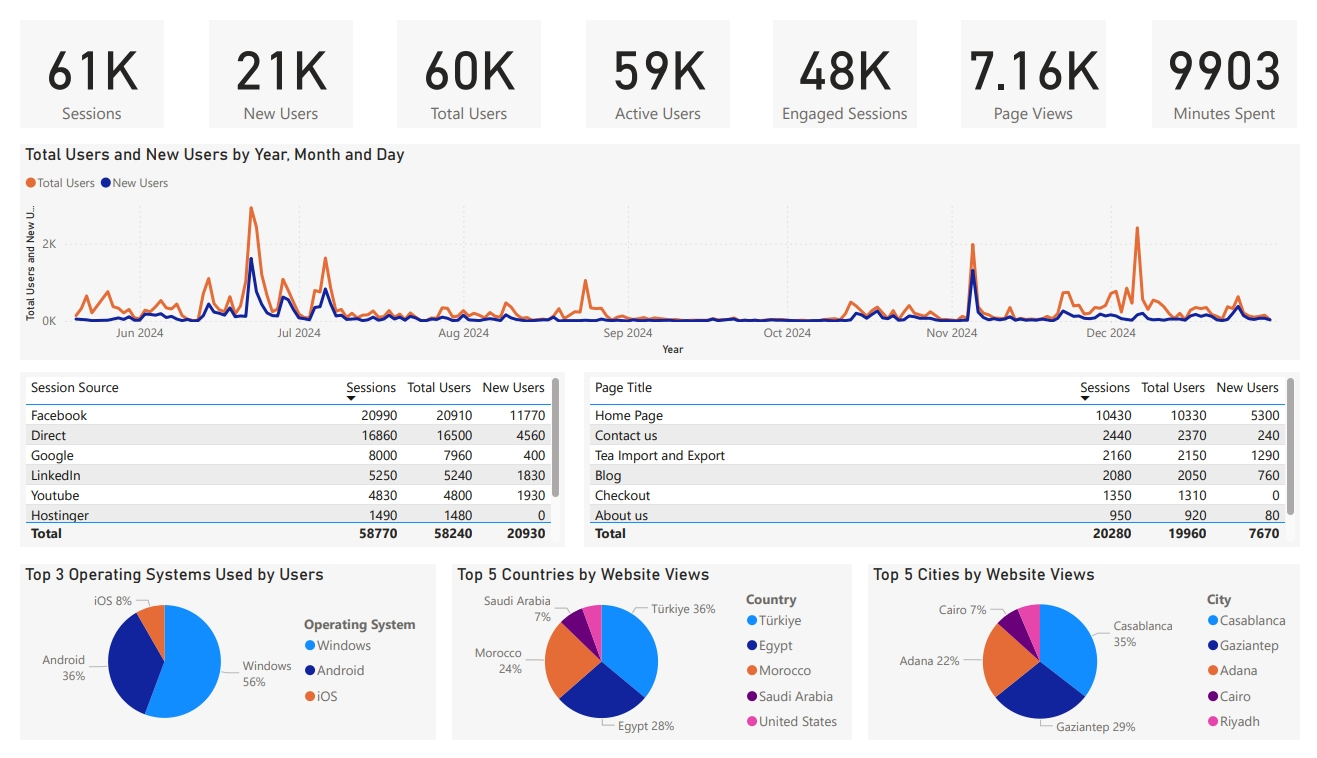

What the dashboard file says about the page in this screenshot:
{"tool":"powerbi","page":{"name":"Page 1","canvas":[1280,720],"ordinal":0},"visuals":[{"type":"tableEx","fields":{"Values":["Analyzeforce_Visitors(Data).Session Source","Sum(Analyzeforce_Visitors(Data).Sessions)","Sum(Analyzeforce_Visitors(Data).Total Users)","Sum(Analyzeforce_Visitors(Data).New Users)"]},"box":[0,352,545,175.3],"z":0},{"type":"tableEx","fields":{"Values":["Analyzeforce_Visitors(Data).Page Title","Sum(Analyzeforce_Visitors(Data).Sessions)","Sum(Analyzeforce_Visitors(Data).Total Users)","Sum(Analyzeforce_Visitors(Data).New Users)"]},"box":[564.1,352,715.9,175.3],"z":1000},{"type":"pieChart","title":"Top 5 Cities by Website Views","fields":{"Category":["Analyzeforce_Visitors(Data).City"],"Y":["Sum(Analyzeforce_Visitors(Data).Views)"]},"box":[848,544,432,176],"z":2000},{"type":"pieChart","title":"Top 3 Operating Systems Used by Users","fields":{"Y":["CountNonNull(Analyzeforce_Visitors(Data).Operating System)"],"Category":["Analyzeforce_Visitors(Data).Operating System"]},"box":[0,544,416,176],"z":3000},{"type":"pieChart","title":"Top 5 Countries by Website Views","fields":{"Category":["Analyzeforce_Visitors(Data).Country"],"Y":["Sum(Analyzeforce_Visitors(Data).Views)"]},"box":[432,544,400,176],"z":4000},{"type":"lineChart","fields":{"Y":["Sum(Analyzeforce_Visitors(Data).Total Users)","Sum(Analyzeforce_Visitors(Data).New Users)"],"Category":["Analyzeforce_Visitors(Data).Date.Variation.Date Hierarchy.Year","Analyzeforce_Visitors(Data).Date.Variation.Date Hierarchy.Month","Analyzeforce_Visitors(Data).Date.Variation.Date Hierarchy.Day"]},"box":[0,123.7,1280,216.5],"z":5000},{"type":"card","title":"Views","fields":{"Values":["Sum(Analyzeforce_Visitors(Data).Sessions)"]},"box":[0,0,144.3,107.5],"z":6000},{"type":"card","fields":{"Values":["Sum(Analyzeforce_Visitors(Data).Total Users)"]},"box":[377.1,0,144.3,107.5],"z":7000},{"type":"card","fields":{"Values":["Sum(Analyzeforce_Visitors(Data).New Users)"]},"box":[188.5,0,144.3,107.5],"z":8000},{"type":"card","fields":{"Values":["Sum(Analyzeforce_Visitors(Data).Engaged Sessions)"]},"box":[752.7,0,144.3,107.5],"z":9000},{"type":"card","fields":{"Values":["Sum(Analyzeforce_Visitors(Data).Views per User)"]},"box":[941.2,0,144.3,107.5],"z":10000},{"type":"card","fields":{"Values":["Sum(Analyzeforce_Visitors(Data).Average Session Duration)"]},"box":[1132.2,0,144.3,107.5],"z":11000},{"type":"card","fields":{"Values":["Sum(Analyzeforce_Visitors(Data).Active Users)"]},"box":[565.6,0,144.3,107.5],"z":12000}]}

Visuals, with their boxes in screenshot pixels (x1, y1, x2, y2), scaled from the page's 1280x720 canvas onto the 1317x758 screenshot:
tableEx - Analyzeforce_Visitors(Data).Session Source x Sum(Analyzeforce_Visitors(Data).Sessions): select_region(0, 371, 561, 555)
tableEx - Analyzeforce_Visitors(Data).Page Title x Sum(Analyzeforce_Visitors(Data).Sessions): select_region(580, 371, 1316, 555)
"Top 5 Cities by Website Views" pieChart: select_region(873, 573, 1316, 757)
"Top 3 Operating Systems Used by Users" pieChart: select_region(0, 573, 428, 757)
"Top 5 Countries by Website Views" pieChart: select_region(444, 573, 856, 757)
lineChart - Sum(Analyzeforce_Visitors(Data).Total Users) x Sum(Analyzeforce_Visitors(Data).New Users): select_region(0, 130, 1316, 358)
"Views" card: select_region(0, 0, 148, 113)
card - Sum(Analyzeforce_Visitors(Data).Total Users): select_region(388, 0, 536, 113)
card - Sum(Analyzeforce_Visitors(Data).New Users): select_region(194, 0, 342, 113)
card - Sum(Analyzeforce_Visitors(Data).Engaged Sessions): select_region(774, 0, 923, 113)
card - Sum(Analyzeforce_Visitors(Data).Views per User): select_region(968, 0, 1117, 113)
card - Sum(Analyzeforce_Visitors(Data).Average Session Duration): select_region(1165, 0, 1313, 113)
card - Sum(Analyzeforce_Visitors(Data).Active Users): select_region(582, 0, 730, 113)
